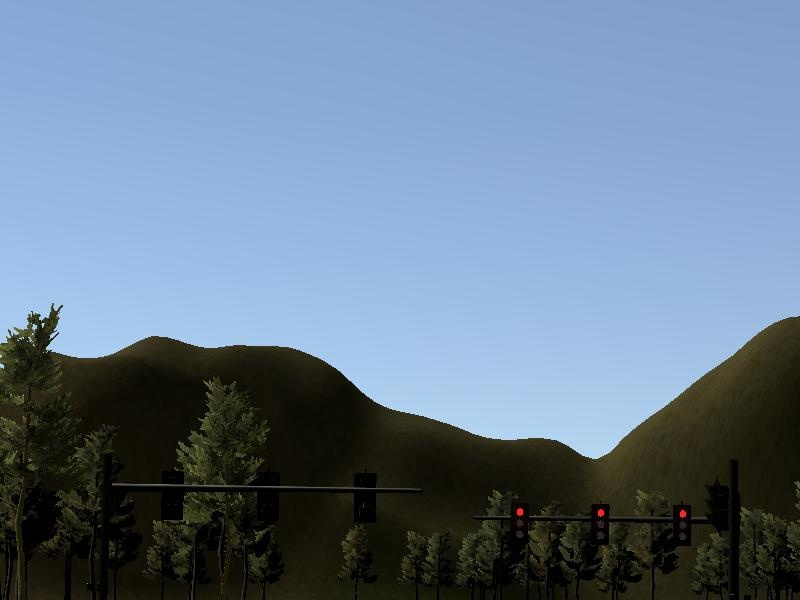red: (592, 503, 610, 548), (511, 502, 529, 547), (674, 503, 692, 548)
